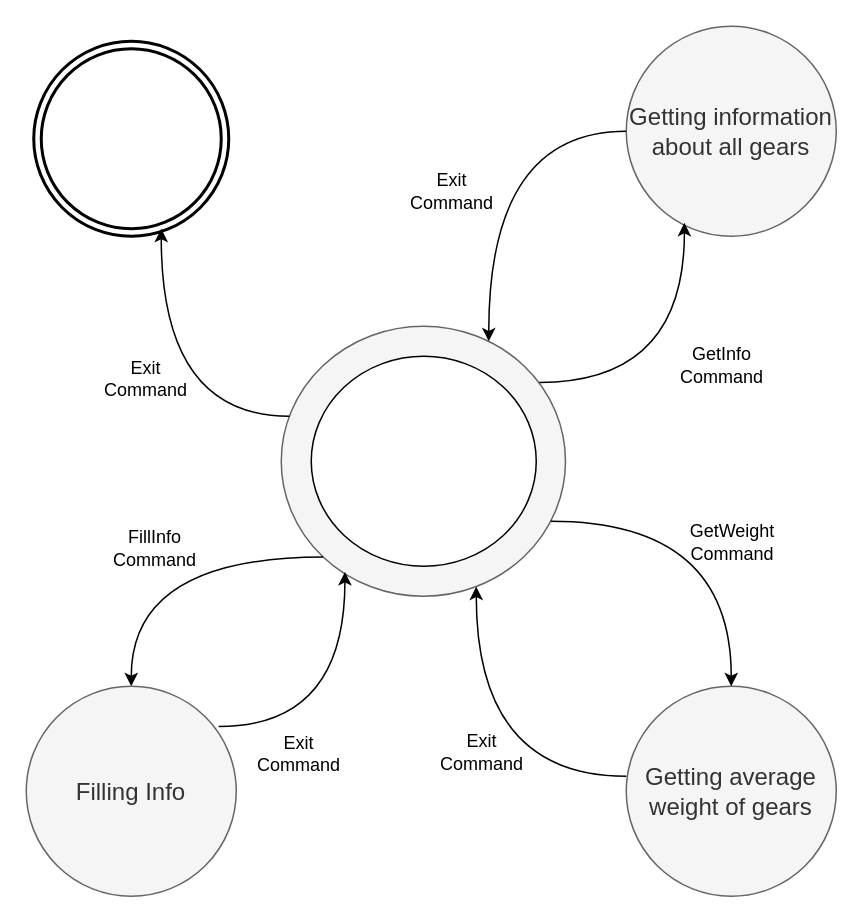
The diagram is 863 pixels wide and 923 high, and some of its shapes have lost their labels. Here are the shapes that lost their labels. From the top down, the centre of each, then its label:
At (x=130, y=138): "End".
At (x=423, y=460): "Choosing".
